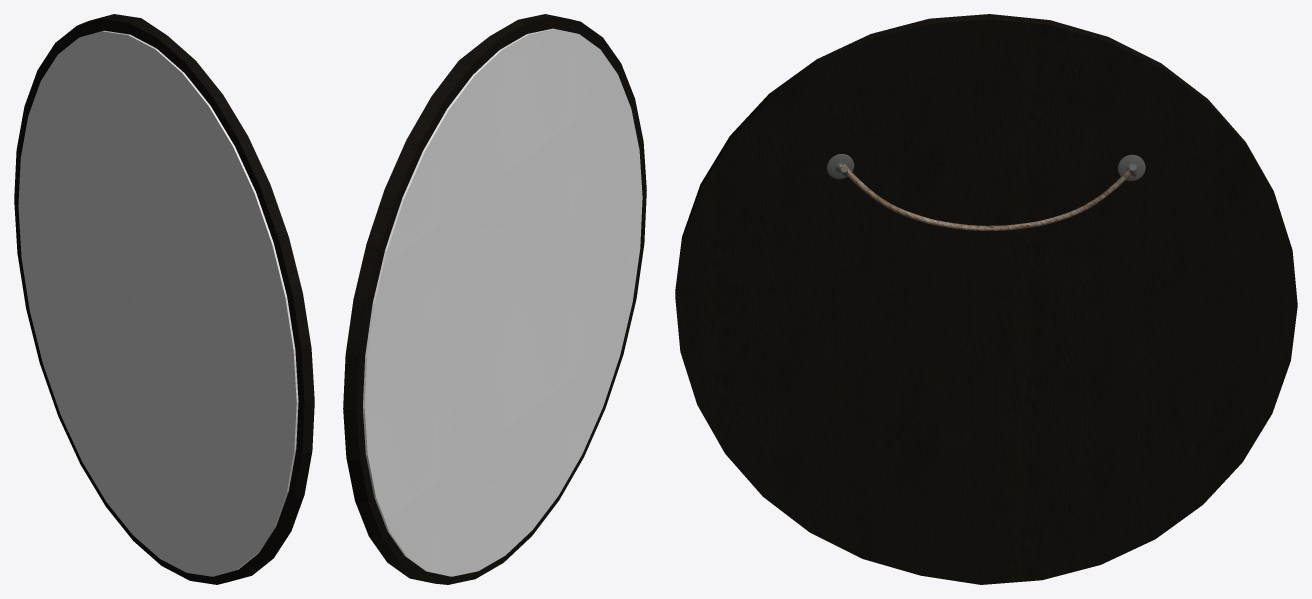
The model's file is espejo.glb.
3 views of the same model, side by side, from view 1: azimuth 30°, elevation 25°; view 2: azimuth 150°, elevation 25°; view 3: azimuth 270°, elevation 25° (orthographic). The views are drawn at different scales.
Visible parts, largest first — view 1: Círculo; view 2: Círculo; view 3: Círculo.
Part boxes in pixels (x1=…): Círculo: x1=14, y1=14, x2=314, y2=584; Círculo: x1=343, y1=14, x2=646, y2=584; Círculo: x1=675, y1=14, x2=1297, y2=584.
Bounding box in the file's own units: 0.149 × 1.99 × 1.99.
Materials: 4 (4 with a texture image).
